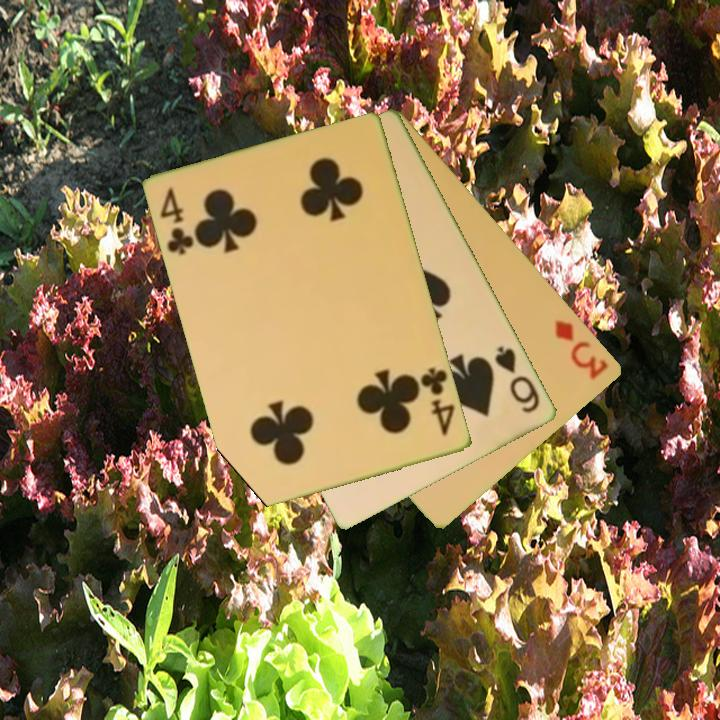3d: (551, 316, 612, 383)
4c: (417, 364, 459, 439), (157, 183, 198, 258)
6s: (491, 342, 543, 417)
